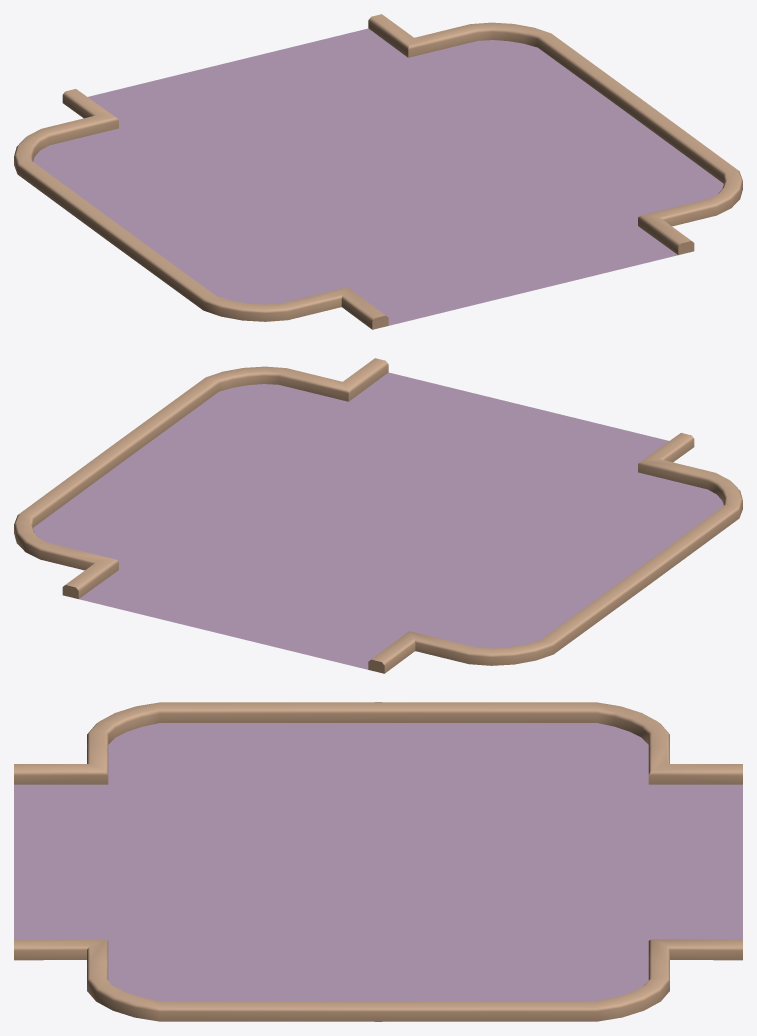
Rendered from LuffyRoad_Quad.fbx.
The picture shows the model from 3 angles, top to bottom: view 1: azimuth 30°, elevation 25°; view 2: azimuth 150°, elevation 25°; view 3: azimuth 270°, elevation 25°; orthographic projection. The views are drawn at different scales.
Parts seen in each view (by area): view 1: LUFFY_Road_polySurface1254, LUFFY_Road_polySurface16, LUFFY_Road_polySurface14; view 2: LUFFY_Road_polySurface1254, LUFFY_Road_polySurface16, LUFFY_Road_polySurface14; view 3: LUFFY_Road_polySurface1254, LUFFY_Road_polySurface16, LUFFY_Road_polySurface14.
Boxes of the visible parts, x1,y1,x2,y2 form: LUFFY_Road_polySurface1254: [33, 28, 723, 325]; LUFFY_Road_polySurface16: [368, 14, 742, 254]; LUFFY_Road_polySurface14: [14, 89, 388, 329]; LUFFY_Road_polySurface1254: [33, 372, 723, 669]; LUFFY_Road_polySurface16: [14, 358, 388, 598]; LUFFY_Road_polySurface14: [368, 433, 742, 673]; LUFFY_Road_polySurface1254: [14, 723, 742, 1000]; LUFFY_Road_polySurface16: [14, 939, 742, 1021]; LUFFY_Road_polySurface14: [14, 702, 742, 784].
Size of the model in its own units: 1000 by 19.65 by 1000.
